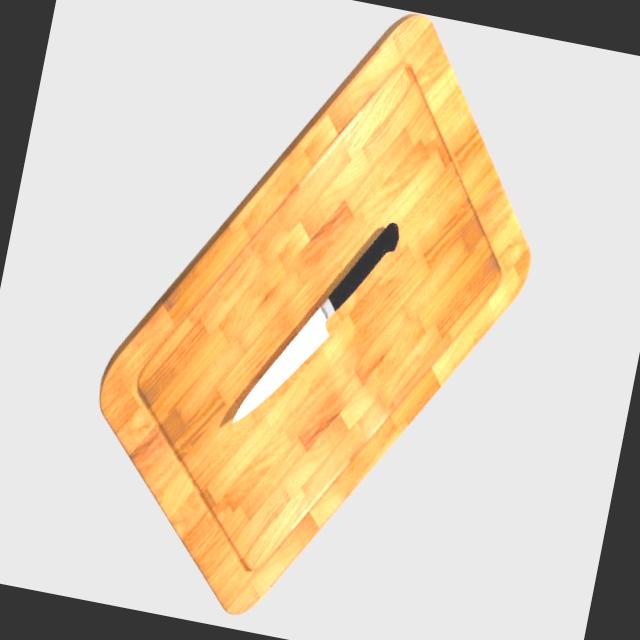knife: (326, 213, 402, 321)
